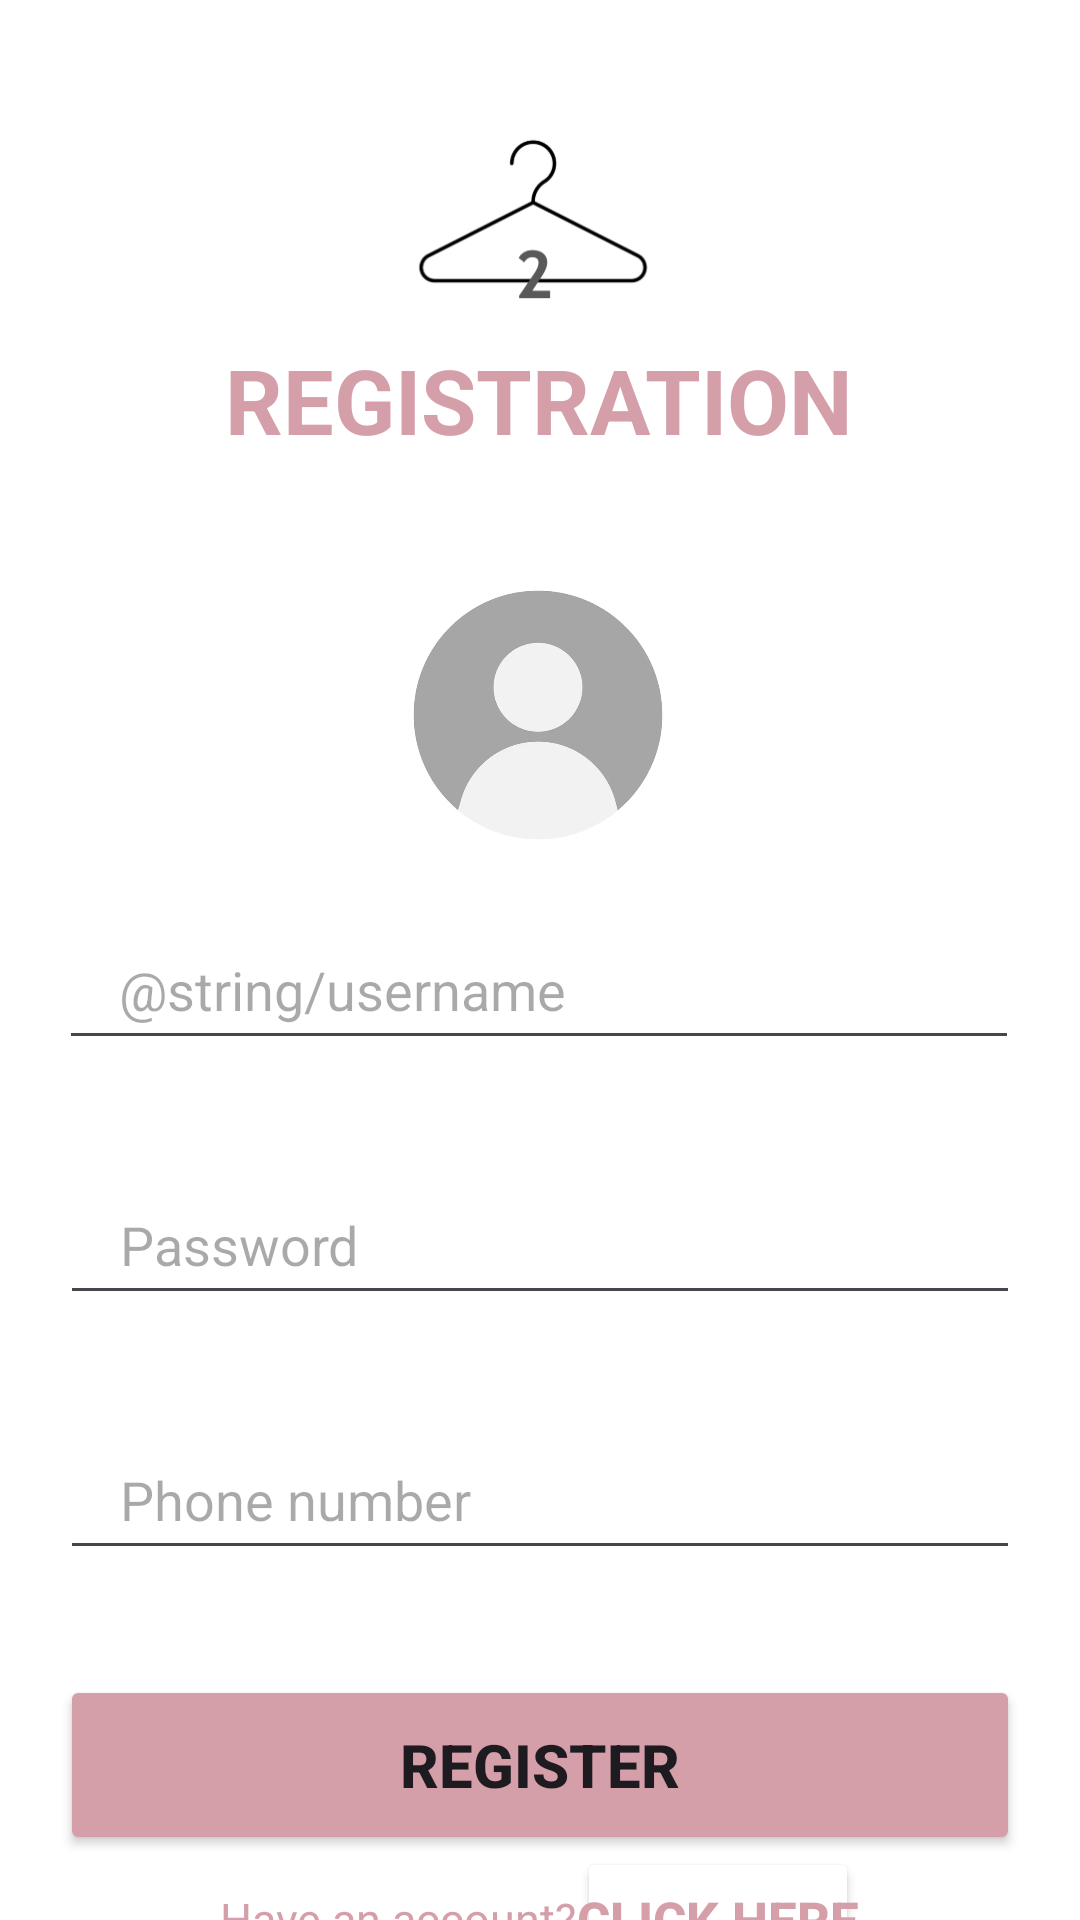

Named icons in this screenshot (1080 × 1920) and their bounding boxes, bbox=[x1, y1, x2, y2]:
hanger: bbox=[419, 140, 648, 299]
pick profile picture: bbox=[414, 591, 662, 810]
